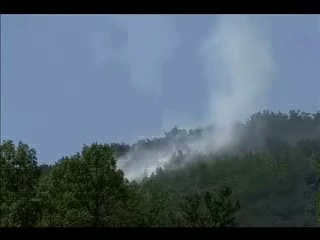smoke: (198, 14, 276, 168), (108, 129, 198, 184)
